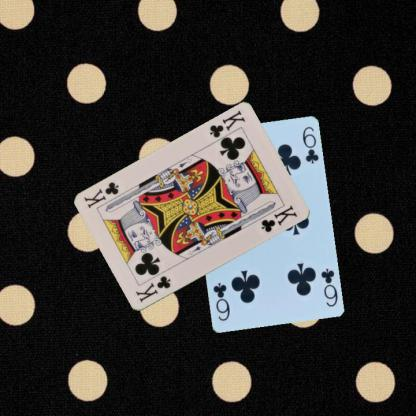6c: (318, 265, 338, 308)
Kc: (207, 108, 247, 140), (133, 274, 171, 304)
